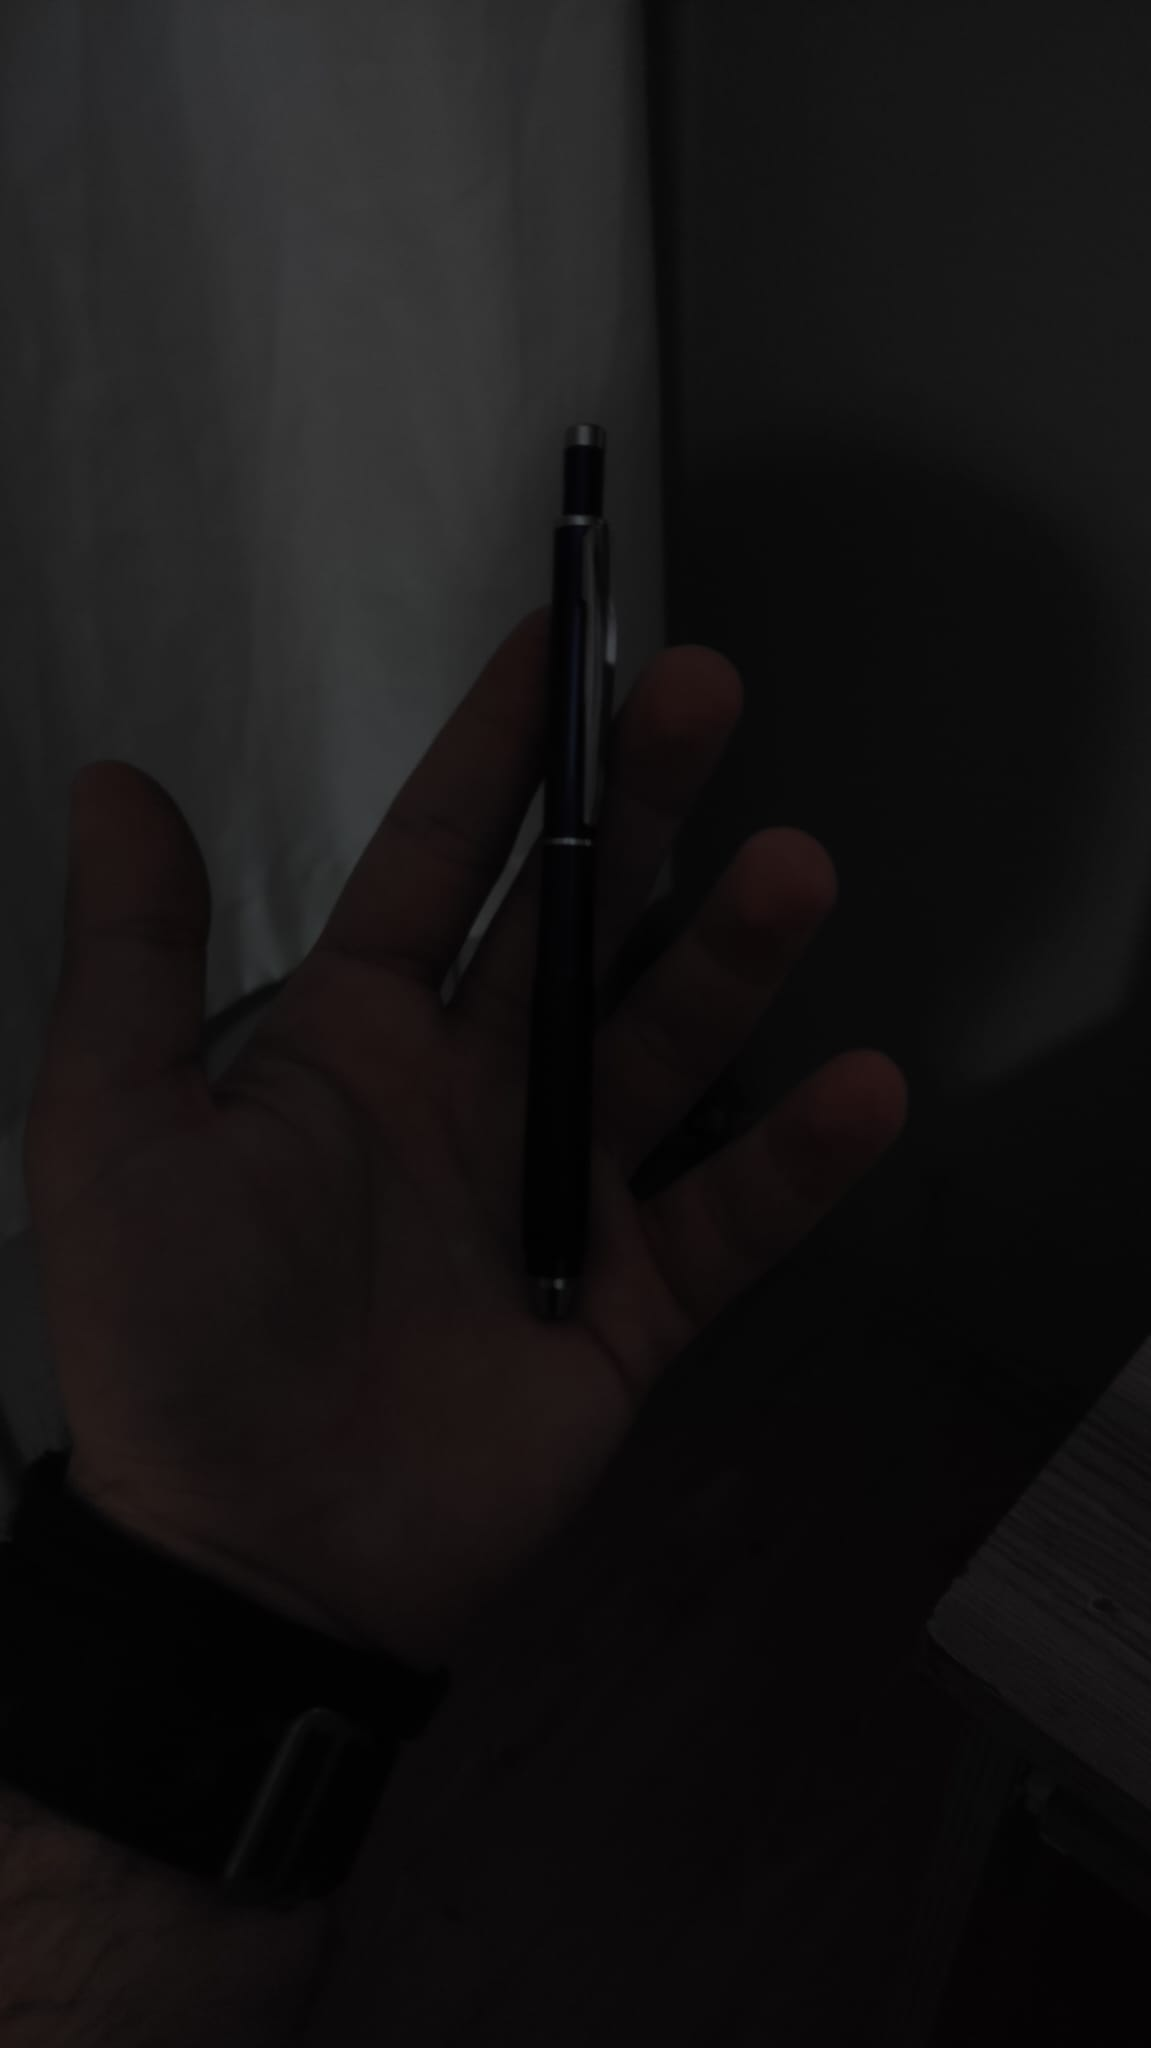kalem: (521, 401, 616, 1326)
